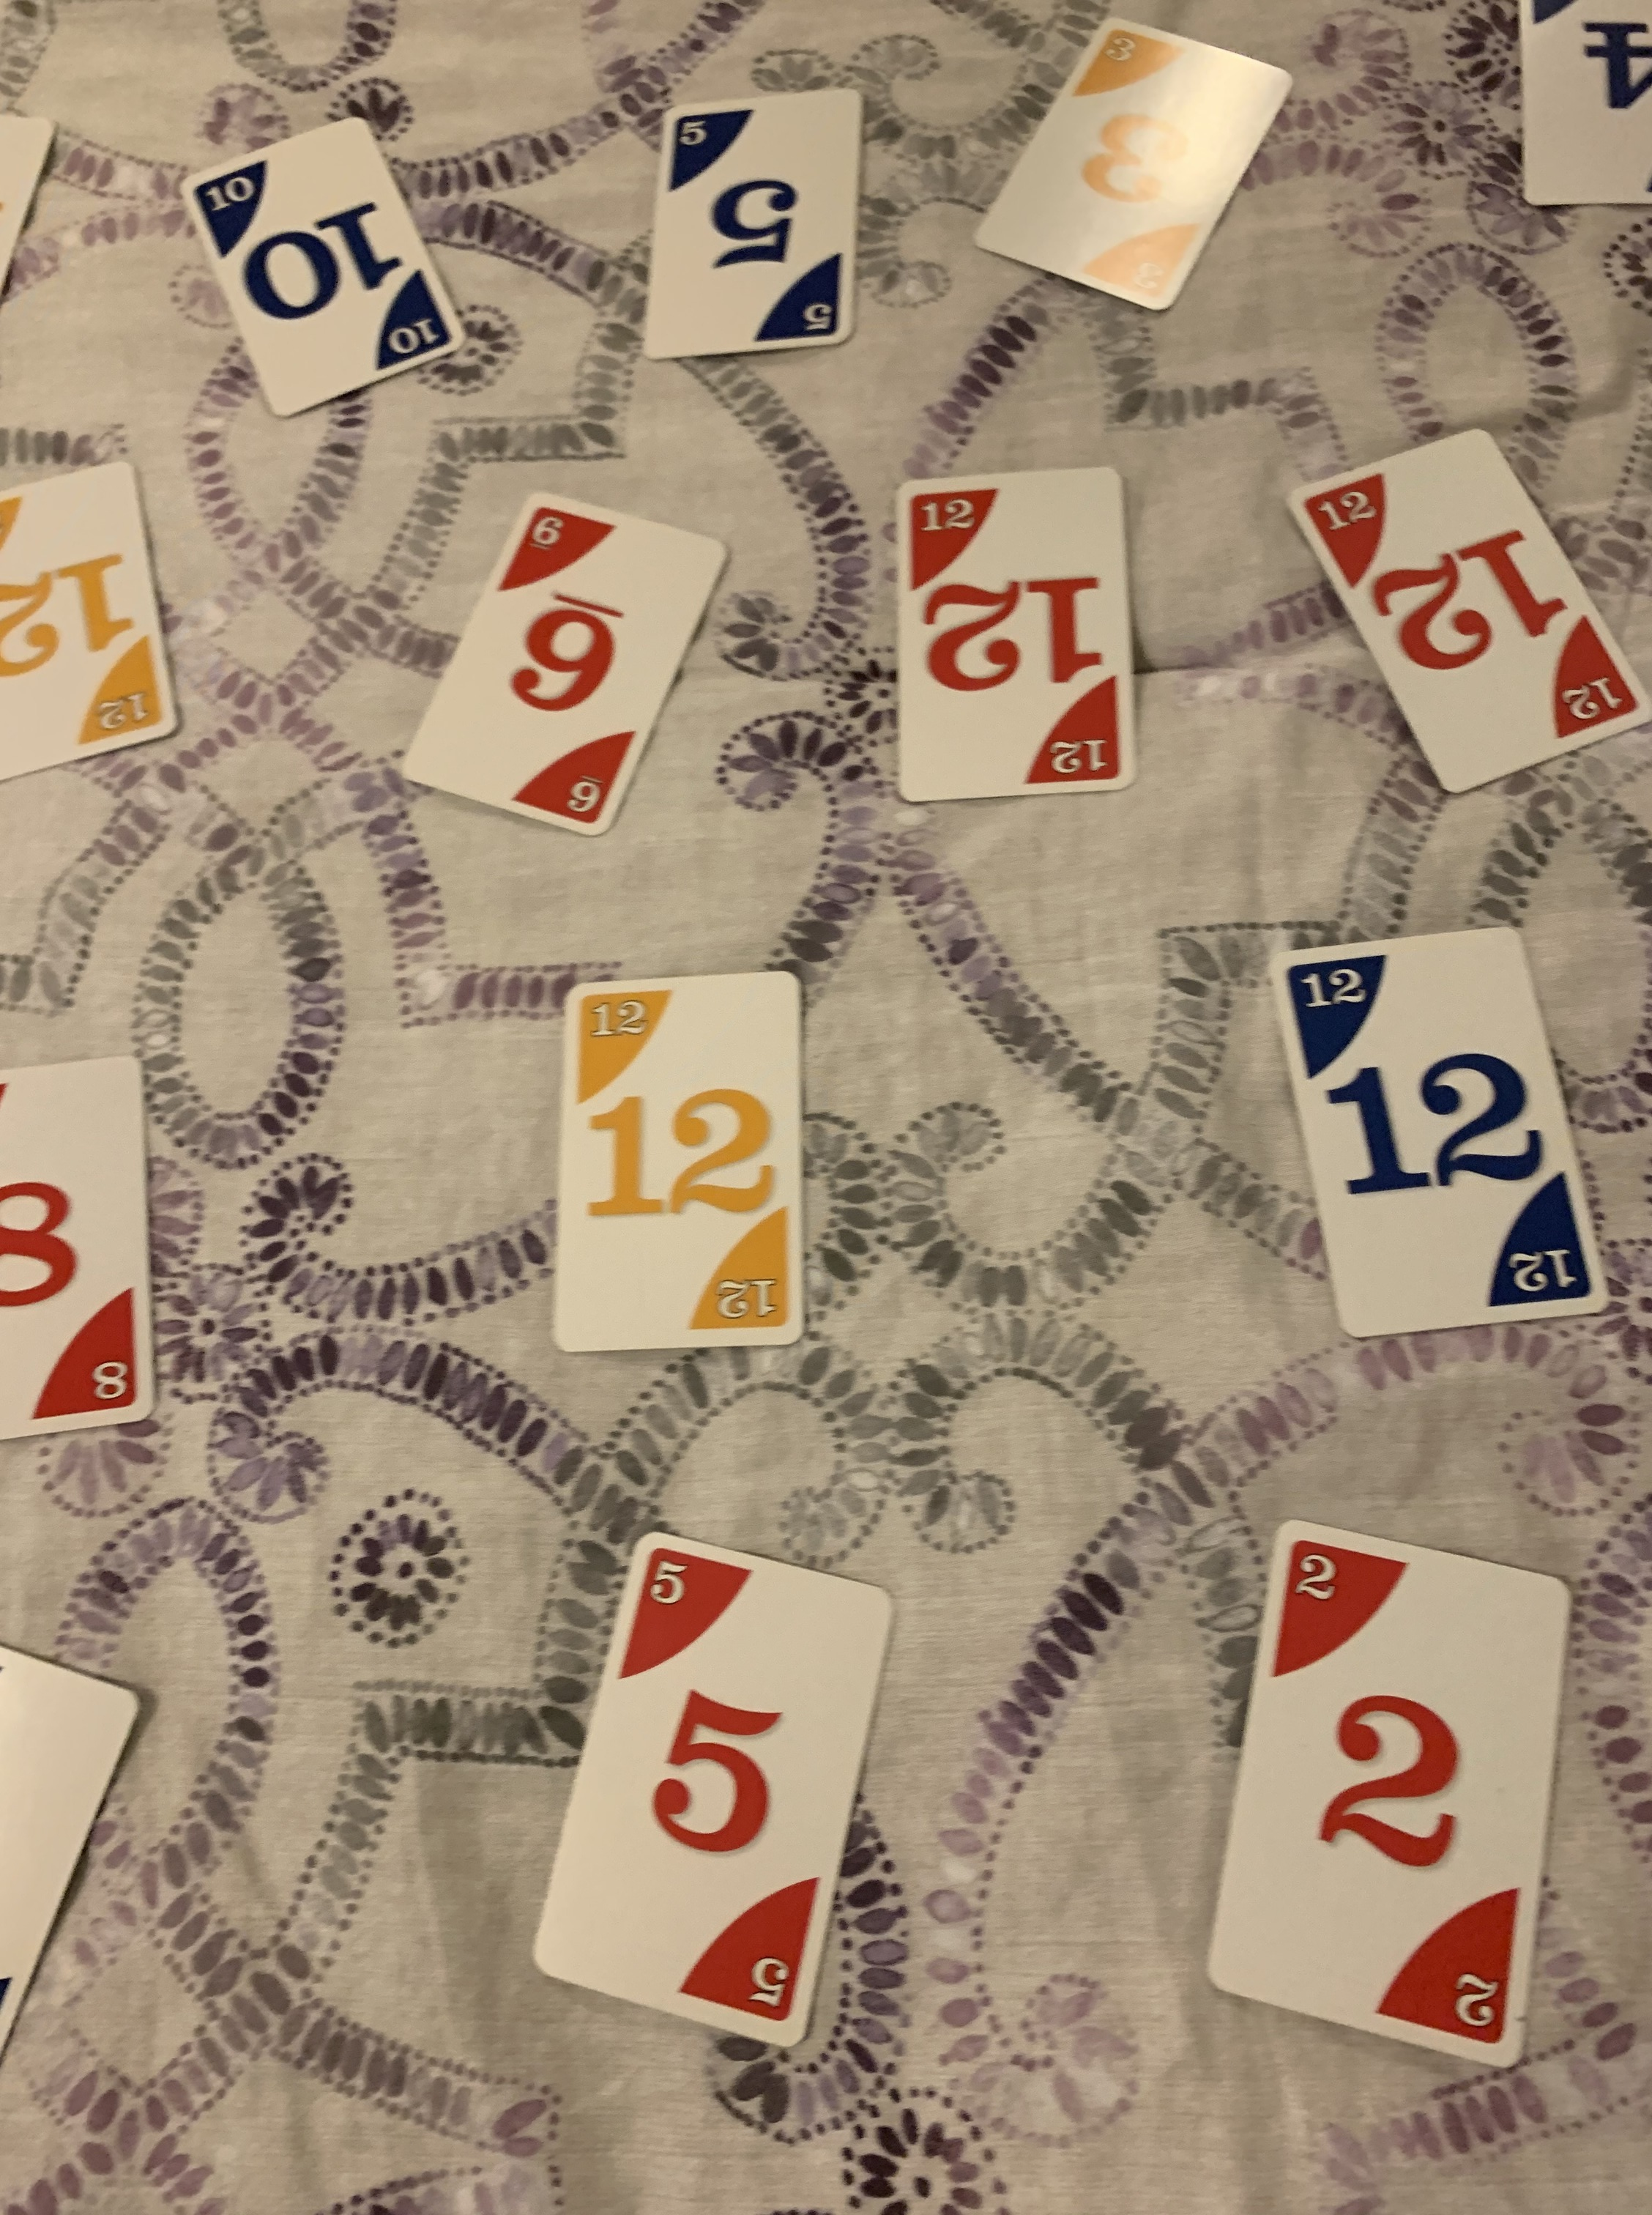five: (528, 1517, 895, 2055), (628, 89, 868, 371)
six: (385, 483, 737, 849)
three: (965, 2, 1301, 325)
twelve: (1263, 918, 1614, 1347), (1279, 424, 1650, 797), (545, 962, 812, 1357), (887, 465, 1142, 807), (0, 448, 177, 788)
two: (1206, 1517, 1577, 2088)
